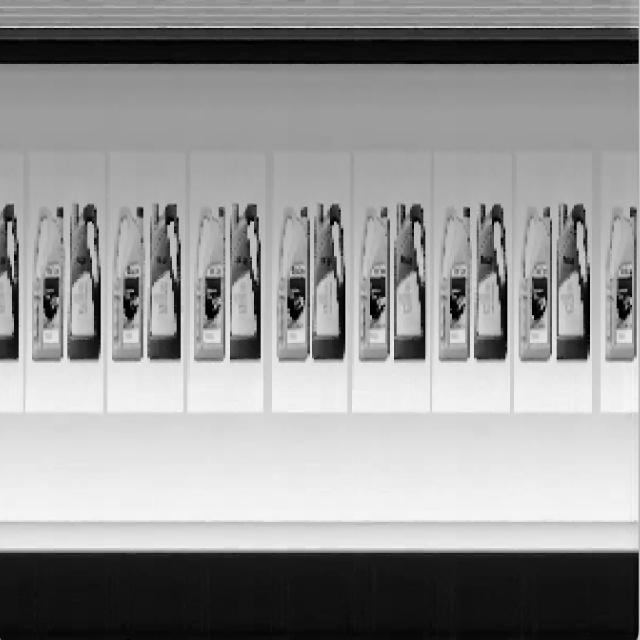motor_oil: (310, 195, 350, 375), (554, 191, 593, 371), (515, 196, 555, 370), (66, 197, 105, 368), (145, 198, 184, 365), (601, 198, 638, 373), (227, 200, 265, 368), (27, 199, 65, 364), (392, 194, 429, 363), (190, 202, 227, 370), (434, 202, 472, 364), (354, 204, 390, 374), (474, 198, 511, 363), (274, 200, 308, 372), (108, 201, 144, 362)
